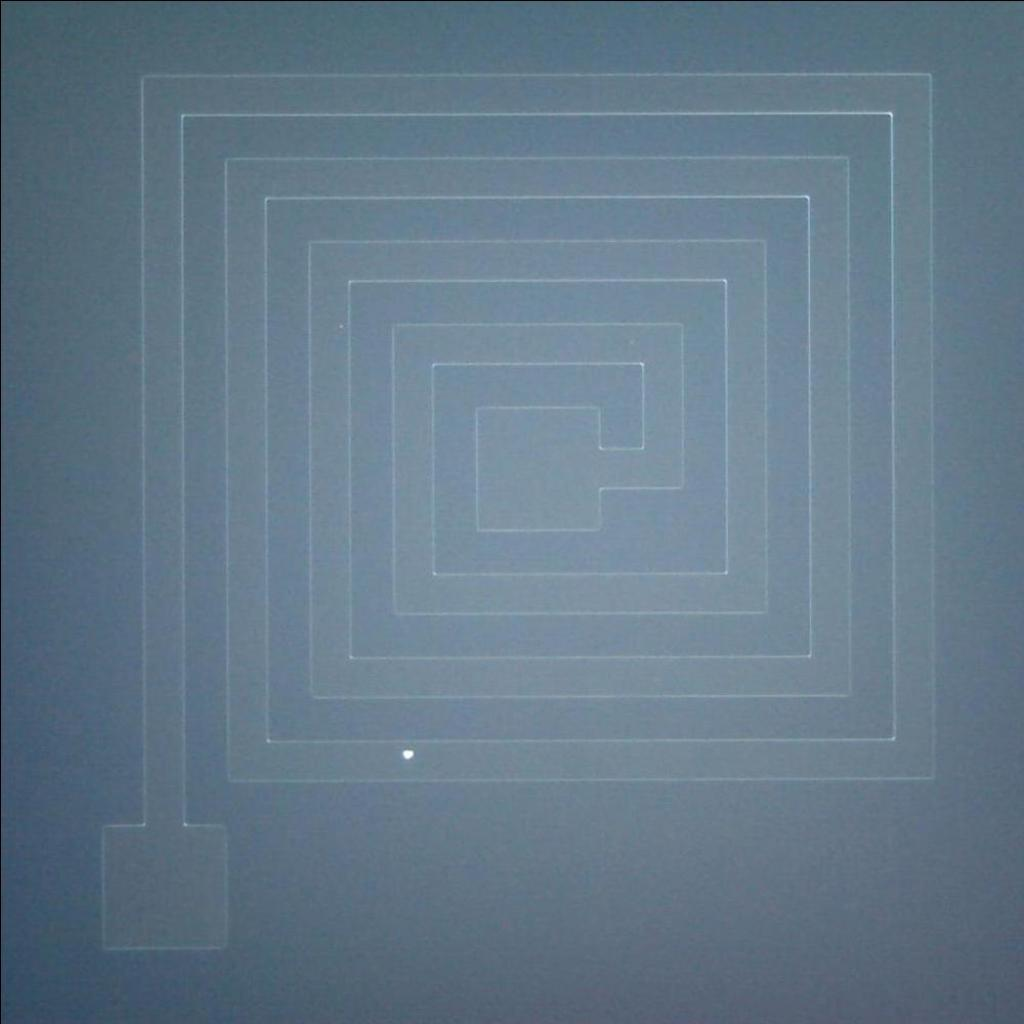spot: (393, 743, 420, 766)
